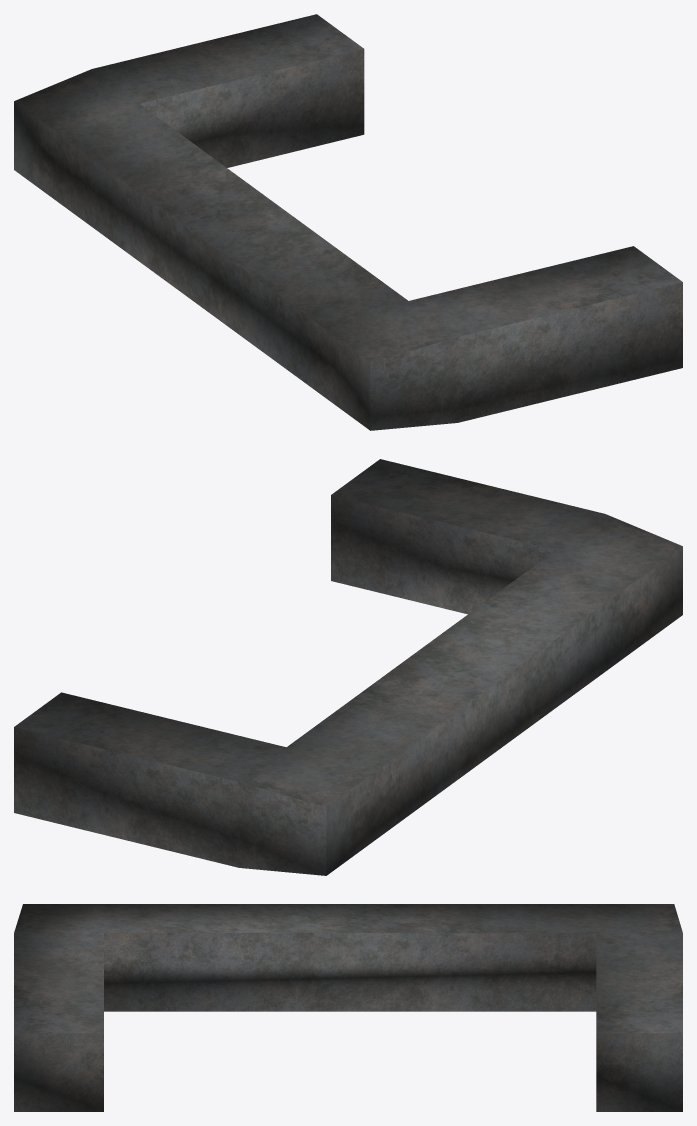
The model's file is Handle.glb.
3 renders of one model, top to bottom at view 1: azimuth 30°, elevation 25°; view 2: azimuth 150°, elevation 25°; view 3: azimuth 270°, elevation 25°, orthographic. The views are drawn at different scales.
Visible parts, largest first — view 1: Handle; view 2: Handle; view 3: Handle.
Boxes of the visible parts, left/top/right/bottom form: Handle: left=14, top=14, right=682, bottom=430; Handle: left=14, top=459, right=682, bottom=875; Handle: left=14, top=904, right=682, bottom=1111.
Size of the model in its own units: 0.1893 by 0.0505 by 0.3901.
1 material, 1 textured.
